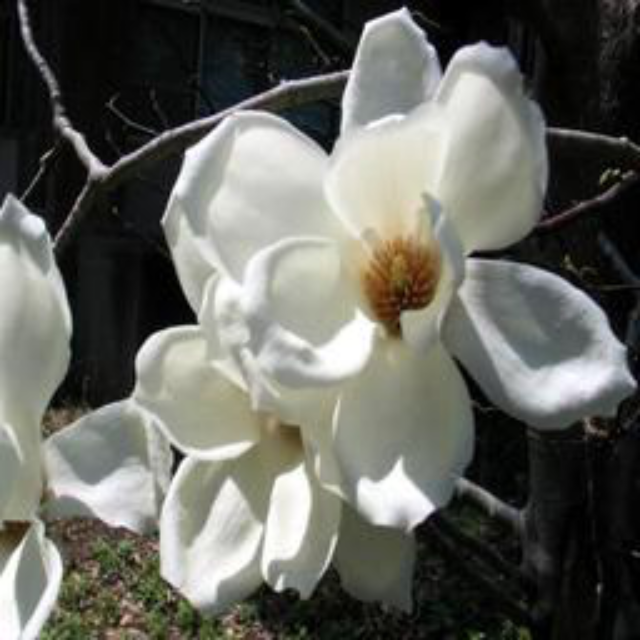magnolia: (234, 42, 637, 543), (112, 313, 377, 625), (2, 185, 181, 632)
